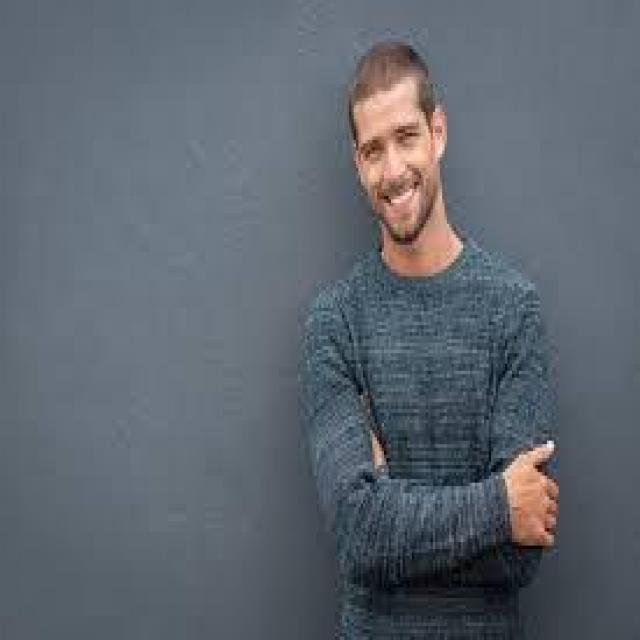person: (291, 35, 558, 636)
